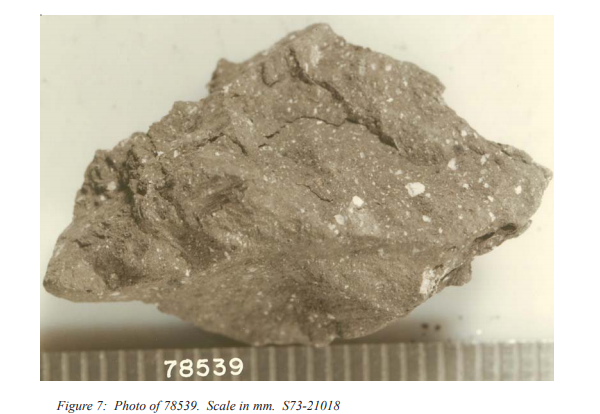Basalt: (51, 22, 553, 338), (156, 153, 425, 289)
